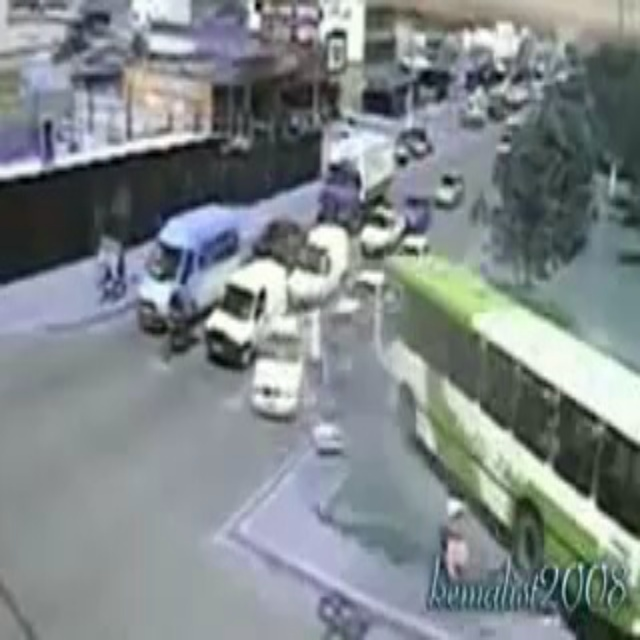acc: (335, 252, 636, 624)
